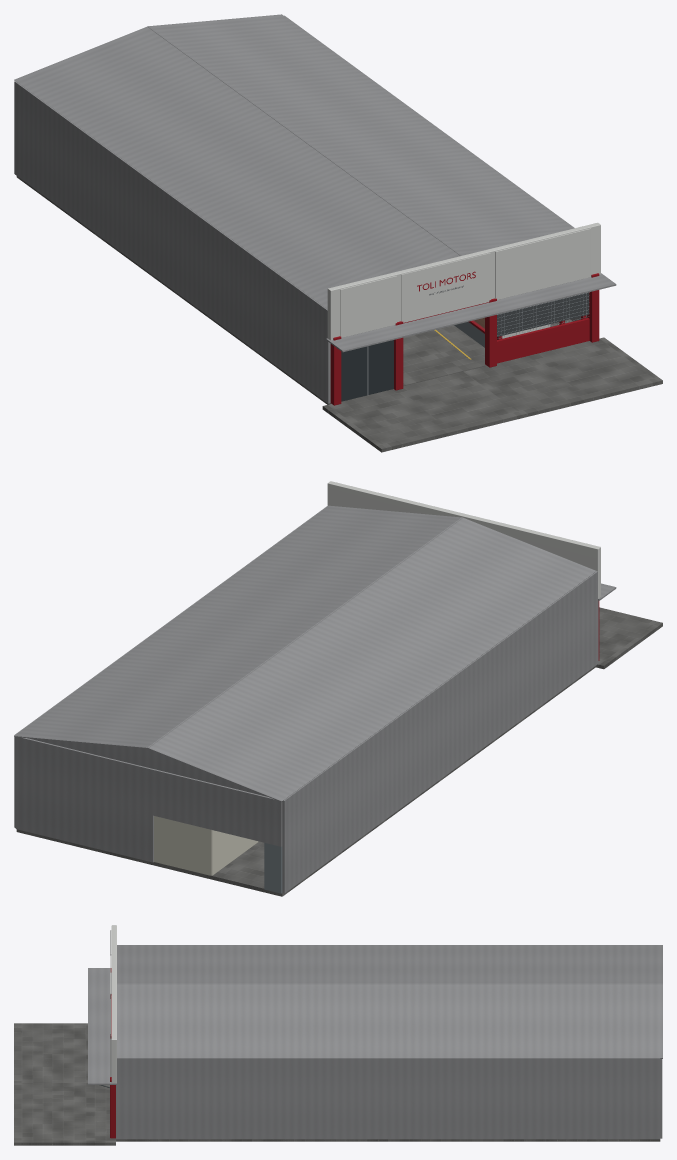
File: toli-workshop-web-v2.glb
3 views of the same model, one above another, from view 1: azimuth 30°, elevation 25°; view 2: azimuth 150°, elevation 25°; view 3: azimuth 270°, elevation 25° (orthographic). The views are drawn at different scales.
Parts seen in each view (by area): view 1: WEB_V2_Galvanized cladding, WEB_V2_Stone workshop floor, WEB_V2_Pale wall panels, WEB_V2_Red painted steel, WEB_V2_Booth dark glazing, WEB_V2_Red rolling shutter, WEB_V2_Dark structural steel, WEB_V2_Brushed hardware; view 2: WEB_V2_Galvanized cladding, WEB_V2_Stone workshop floor, WEB_V2_Pale wall panels, WEB_V2_White booth, WEB_V2_Grey dado; view 3: WEB_V2_Galvanized cladding, WEB_V2_Stone workshop floor, WEB_V2_Pale wall panels, WEB_V2_Red painted steel.
Part boxes in pixels (x1,y1,x2,y2): WEB_V2_Galvanized cladding: (14,14,616,403); WEB_V2_Stone workshop floor: (16,176,662,452); WEB_V2_Pale wall panels: (327,222,600,340); WEB_V2_Red painted steel: (330,271,599,405); WEB_V2_Booth dark glazing: (341,340,393,401); WEB_V2_Red rolling shutter: (403,302,589,363); WEB_V2_Dark structural steel: (337,285,589,348); WEB_V2_Brushed hardware: (367,292,589,395); WEB_V2_Galvanized cladding: (14,505,616,893); WEB_V2_Stone workshop floor: (16,607,662,896); WEB_V2_Pale wall panels: (327,481,600,598); WEB_V2_White booth: (154,816,258,875); WEB_V2_Grey dado: (264,843,282,893); WEB_V2_Galvanized cladding: (88,945,662,1139); WEB_V2_Stone workshop floor: (14,1023,660,1145); WEB_V2_Pale wall panels: (110,925,116,1082); WEB_V2_Red painted steel: (110,968,115,1138).
Bounding box in the file's own units: 16.56 × 6.71 × 38.15.
18 materials, 3 textured.
